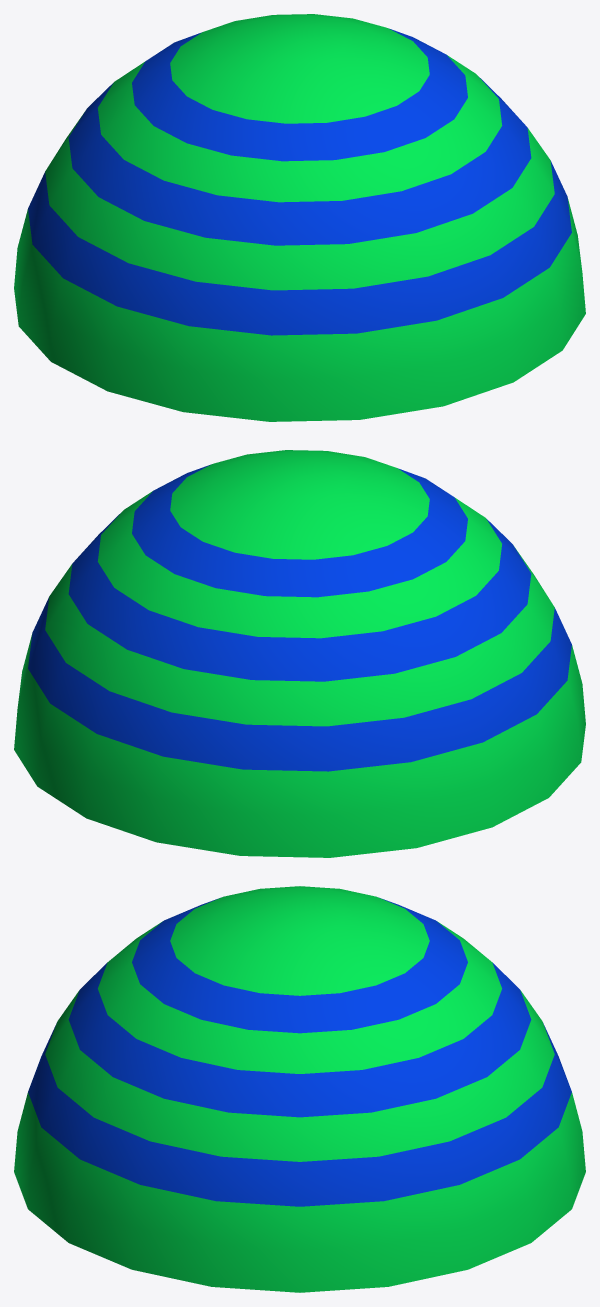
Rendered from Tiny_Dome2.fbx.
The picture shows the model from 3 angles, top to bottom: view 1: azimuth 30°, elevation 25°; view 2: azimuth 150°, elevation 25°; view 3: azimuth 270°, elevation 25°; orthographic projection.
Visible parts, largest first — view 1: pSphere3; view 2: pSphere3; view 3: pSphere3.
Part boxes in pixels (x1=…): pSphere3: x1=14, y1=14, x2=585, y2=421; pSphere3: x1=14, y1=450, x2=585, y2=857; pSphere3: x1=14, y1=886, x2=585, y2=1292.
Size of the model in its own units: 70.72 by 35.36 by 70.72.
